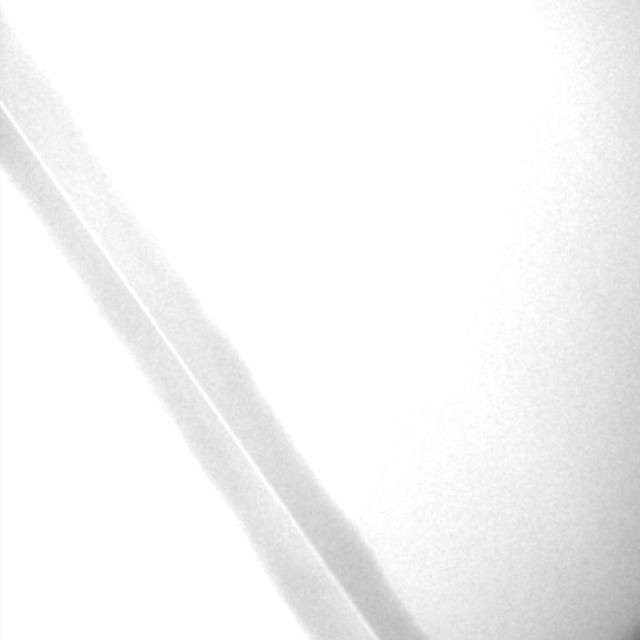broken arc: (1, 102, 374, 637)
